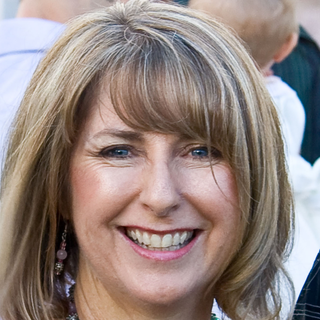eye: (95, 140, 144, 165), (176, 139, 223, 165)
